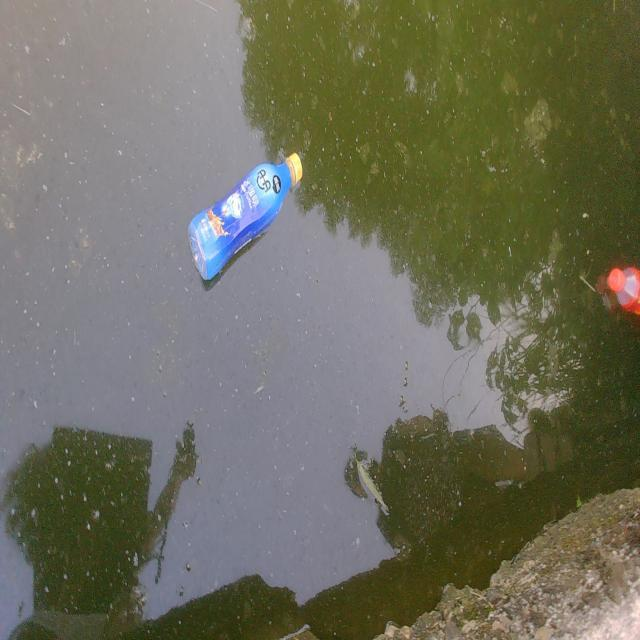bottle: (172, 126, 304, 294), (595, 252, 640, 326)
